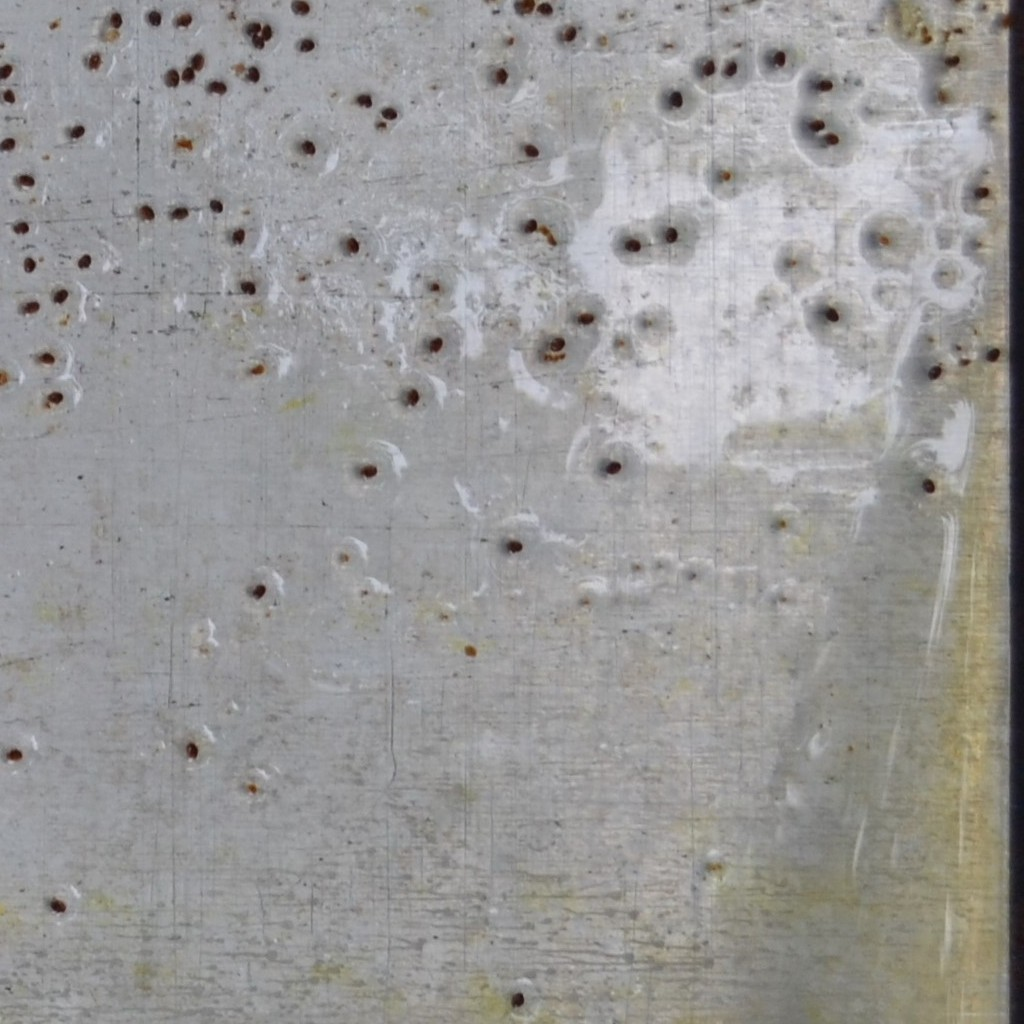varroa: (666, 87, 687, 114), (767, 45, 789, 69), (172, 11, 196, 33), (162, 65, 180, 92), (574, 307, 596, 328), (425, 334, 446, 356), (46, 896, 69, 916), (296, 34, 316, 57), (298, 136, 318, 159), (600, 459, 625, 477), (204, 80, 229, 98), (926, 361, 946, 383), (167, 205, 190, 224), (811, 75, 835, 93), (547, 333, 568, 353), (183, 741, 203, 762), (353, 91, 374, 111), (503, 538, 525, 557), (248, 580, 267, 602), (342, 234, 361, 256), (700, 57, 718, 80), (511, 0, 534, 18), (75, 250, 93, 273), (35, 348, 58, 366), (107, 8, 124, 32), (0, 133, 17, 157), (661, 225, 681, 245), (379, 104, 399, 124), (135, 203, 155, 223), (18, 300, 43, 316), (919, 476, 938, 497), (3, 745, 24, 764), (11, 217, 32, 236), (49, 286, 70, 305), (941, 53, 963, 71), (558, 25, 580, 43), (506, 989, 528, 1007), (145, 6, 163, 28), (245, 64, 262, 87), (190, 49, 206, 73), (404, 387, 423, 407), (359, 462, 379, 481), (238, 278, 258, 297), (622, 236, 643, 254), (804, 117, 826, 134), (521, 142, 543, 159), (522, 215, 539, 237), (45, 388, 67, 405), (289, 1, 312, 17), (85, 49, 101, 72), (983, 345, 1002, 364), (67, 123, 87, 141), (17, 172, 37, 190), (21, 254, 39, 274), (971, 184, 991, 201), (230, 226, 247, 246), (493, 66, 509, 87), (243, 18, 262, 35), (179, 64, 196, 83), (535, 1, 555, 17), (250, 31, 266, 51), (823, 306, 840, 324), (723, 60, 739, 79), (259, 22, 275, 41), (2, 87, 18, 106), (822, 132, 842, 147), (0, 63, 14, 84), (209, 197, 224, 215)
